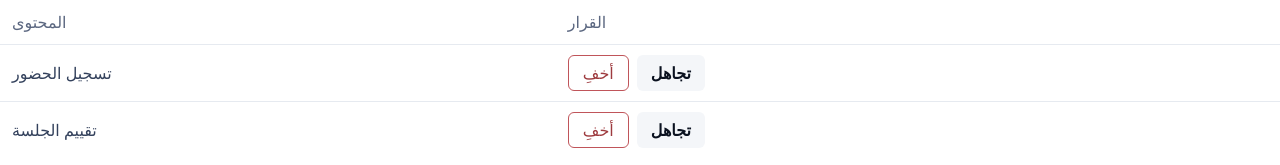
DataTableActionPair › ★ one decision at a time: both are disabled while either runs, and free again after
Click the button with aria-label "أخفِ — تسجيل الحضور" at (598, 73), box top-left (568, 55), bottom-right (629, 91)
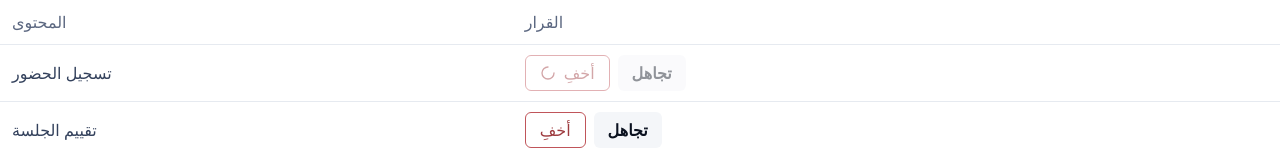
expect the button with aria-label "تجاهل — تسجيل الحضور" is disabled: met
Click the button with aria-label "تجاهل — تسجيل الحضور" at (652, 73), box top-left (618, 55), bottom-right (686, 91)
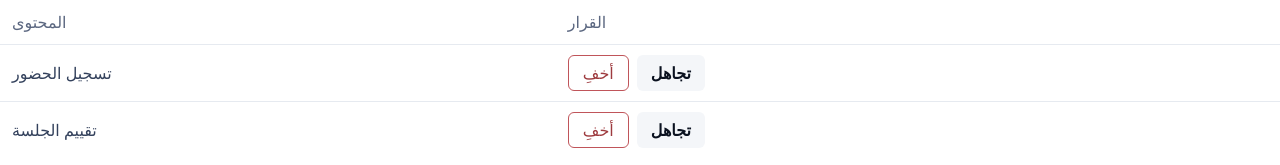
expect the button with aria-label "تجاهل — تسجيل الحضور" is enabled: met, box top-left (637, 55), bottom-right (705, 91)
